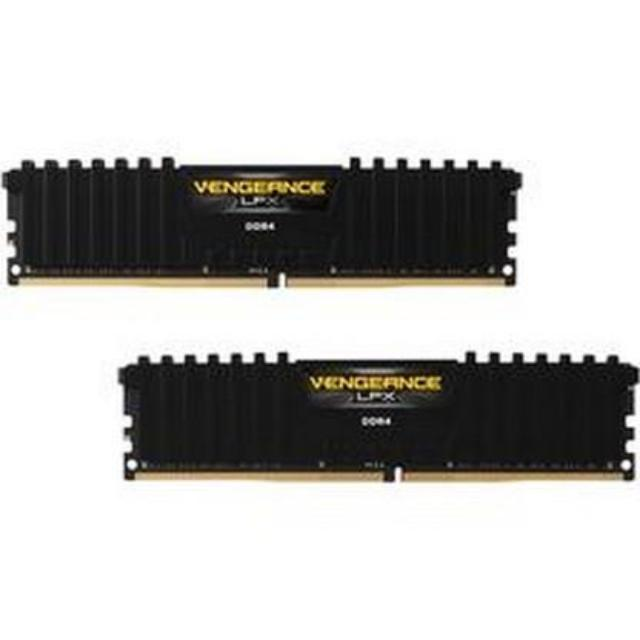RAM: (0, 146, 531, 298), (110, 348, 638, 496)
